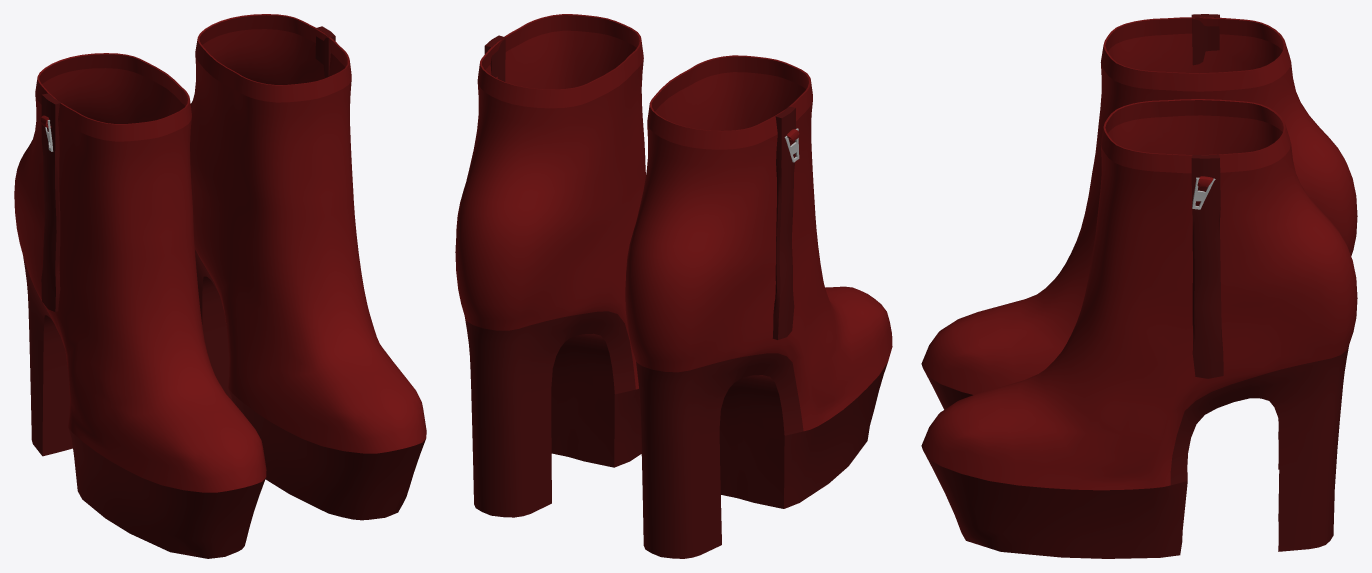
3 views of the same model, side by side, from view 1: azimuth 30°, elevation 25°; view 2: azimuth 150°, elevation 25°; view 3: azimuth 270°, elevation 25° (orthographic). The views are drawn at different scales.
Parts seen in each view (by area): view 1: s4studio_mesh_1_geom.004, s4studio_mesh_1_geom, s4studio_mesh_1_geom.005, s4studio_mesh_1_geom.008; view 2: s4studio_mesh_1_geom.004, s4studio_mesh_1_geom, s4studio_mesh_1_geom.005, s4studio_mesh_1_geom.008; view 3: s4studio_mesh_1_geom, s4studio_mesh_1_geom.004, s4studio_mesh_1_geom.008, s4studio_mesh_1_geom.005.
Part boxes in pixels (box(x1,y1,x2,y2)): s4studio_mesh_1_geom.004: box(14, 53, 266, 558); s4studio_mesh_1_geom: box(190, 14, 426, 520); s4studio_mesh_1_geom.005: box(41, 93, 61, 311); s4studio_mesh_1_geom.008: box(315, 26, 335, 77); s4studio_mesh_1_geom.004: box(625, 55, 892, 558); s4studio_mesh_1_geom: box(455, 14, 645, 517); s4studio_mesh_1_geom.005: box(772, 106, 799, 339); s4studio_mesh_1_geom.008: box(484, 35, 505, 81); s4studio_mesh_1_geom: box(921, 99, 1357, 558); s4studio_mesh_1_geom.004: box(921, 17, 1357, 469); s4studio_mesh_1_geom.008: box(1191, 154, 1223, 378); s4studio_mesh_1_geom.005: box(1191, 14, 1219, 65).
Size of the model in its own units: 146 by 185 by 179.
